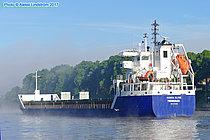Ship: (13, 40, 202, 120)
